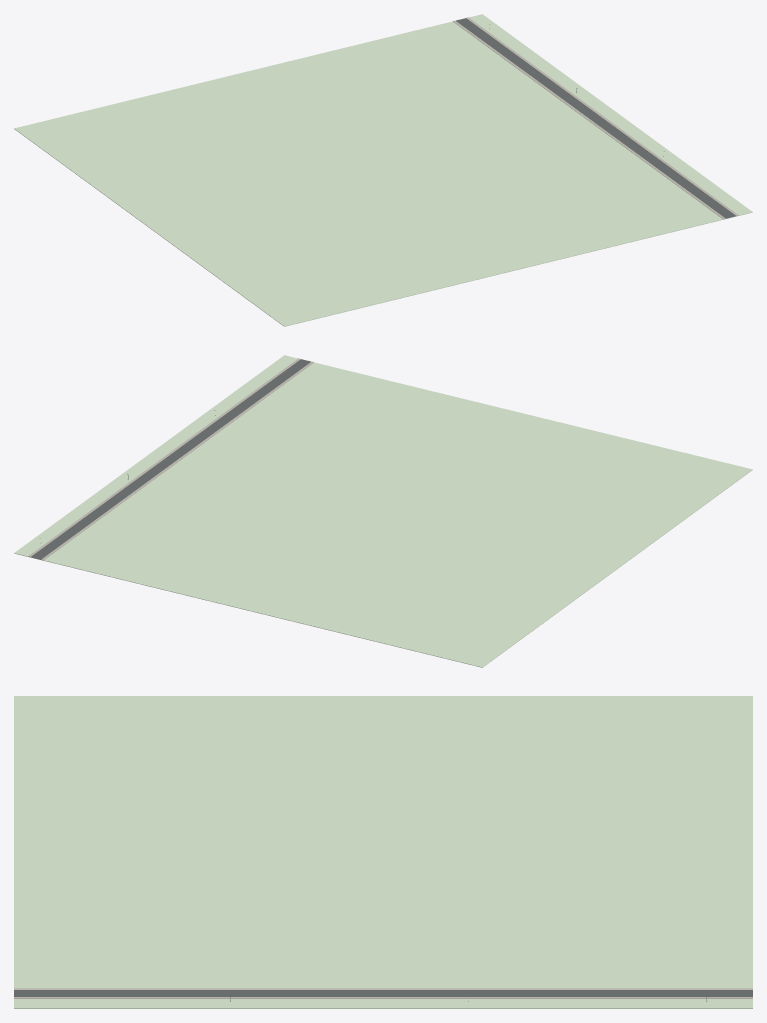
Rendered from chunk_5_3_high.glb.
The picture shows the model from 3 angles, top to bottom: view 1: azimuth 30°, elevation 25°; view 2: azimuth 150°, elevation 25°; view 3: azimuth 270°, elevation 25°; orthographic projection. The views are drawn at different scales.
Visible parts, largest first — view 1: city_grass, city_world_asphalt, city_world_sidewalk, city_curb; view 2: city_grass, city_world_asphalt, city_world_sidewalk, city_curb; view 3: city_grass, city_world_asphalt, city_world_sidewalk, city_curb.
Part boxes in pixels (left/top/right/bottom): city_grass: left=14, top=14, right=752, bottom=326; city_world_asphalt: left=456, top=18, right=735, bottom=218; city_world_sidewalk: left=453, top=17, right=738, bottom=219; city_curb: left=456, top=18, right=736, bottom=218; city_grass: left=14, top=355, right=752, bottom=667; city_world_asphalt: left=31, top=359, right=310, bottom=559; city_world_sidewalk: left=28, top=358, right=313, bottom=560; city_curb: left=30, top=359, right=310, bottom=559; city_grass: left=14, top=696, right=752, bottom=1008; city_world_asphalt: left=14, top=990, right=752, bottom=996; city_world_sidewalk: left=14, top=988, right=752, bottom=998; city_curb: left=14, top=988, right=752, bottom=998.
Size of the model in its own units: 512 by 5.42 by 512.
